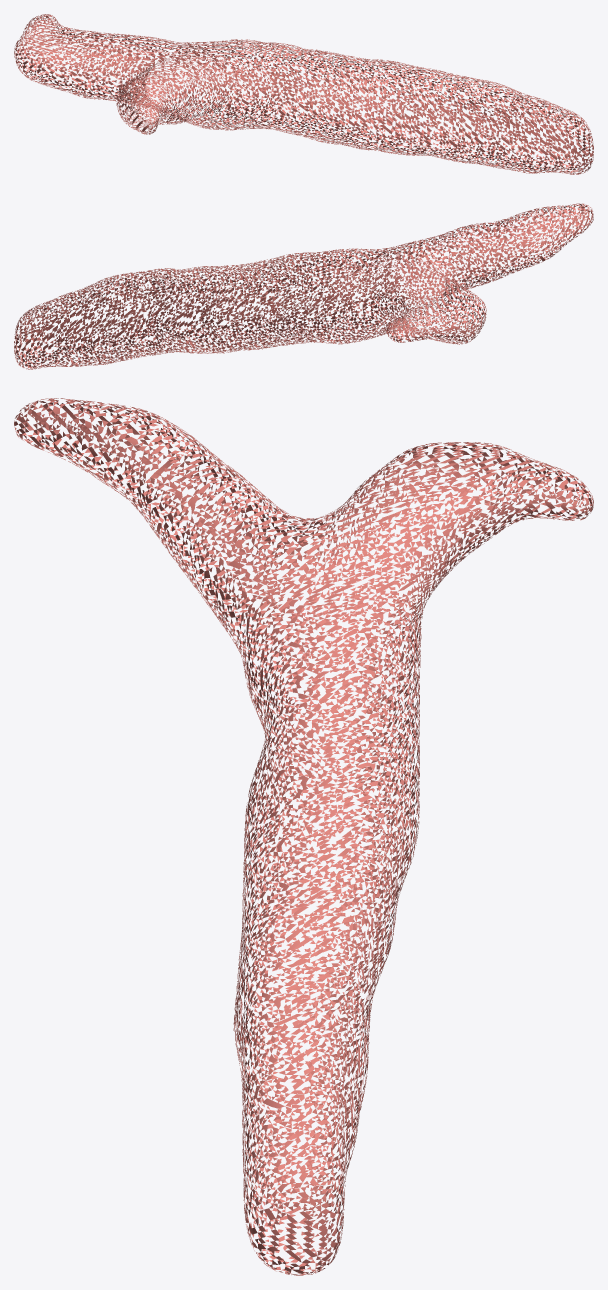
The model's file is morph_001.glb.
The picture shows the model from 3 angles, top to bottom: view 1: azimuth 30°, elevation 25°; view 2: azimuth 150°, elevation 25°; view 3: azimuth 270°, elevation 25°; orthographic projection. The views are drawn at different scales.
Bounding box in the file's own units: 127 × 56.2 × 67.25.
